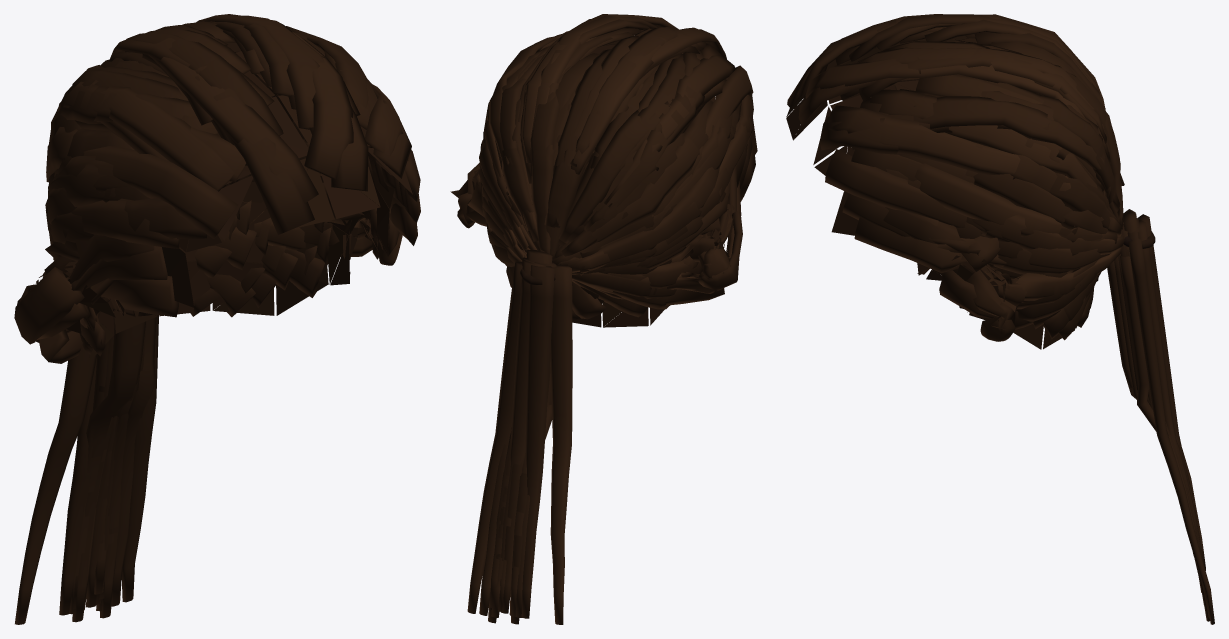
Rendered from kopf.haar.zopf_eng.glb.
3 views of the same model, side by side, from view 1: azimuth 30°, elevation 25°; view 2: azimuth 150°, elevation 25°; view 3: azimuth 270°, elevation 25° (orthographic). The views are drawn at different scales.
Visible parts, largest first — view 1: haar; view 2: haar; view 3: haar.
Boxes of the visible parts, x1,y1,x2,y2 form: haar: [14, 14, 420, 624]; haar: [450, 14, 757, 624]; haar: [786, 14, 1214, 624].
Bounding box in the file's own units: 0.2512 × 0.427 × 0.2856.
